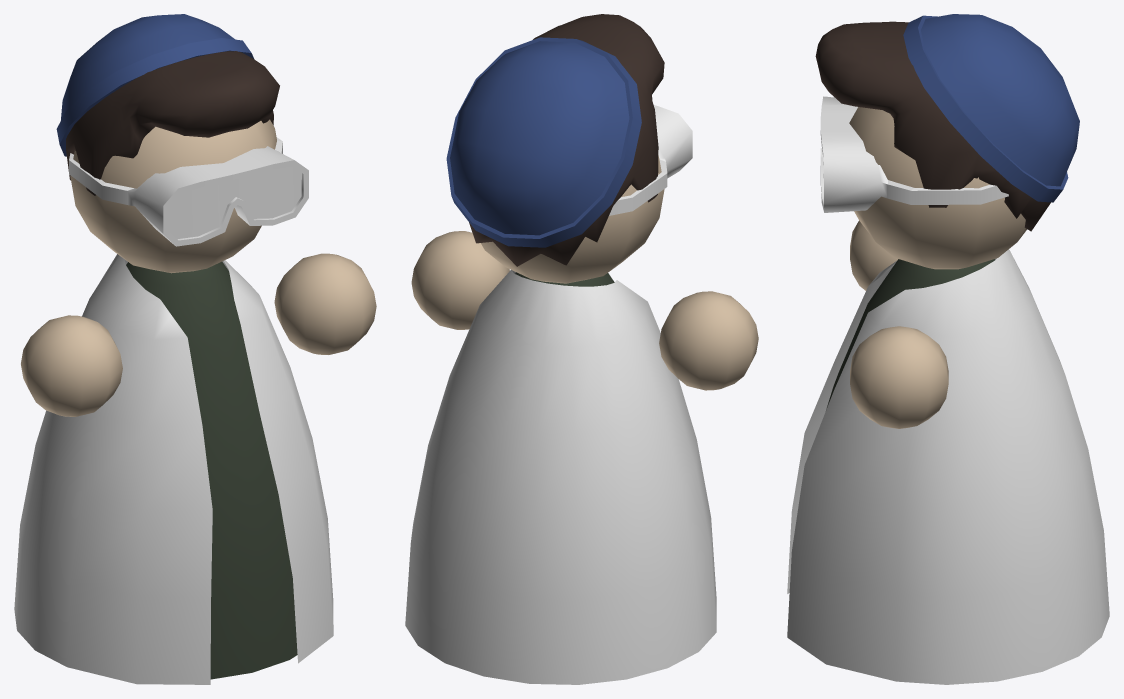
Rendered from char_01_labcoat_goggles_bag_off.fbx.
The picture shows the model from 3 angles, left to right: view 1: azimuth 30°, elevation 25°; view 2: azimuth 150°, elevation 25°; view 3: azimuth 270°, elevation 25°; orthographic projection. The views are drawn at different scales.
Parts seen in each view (by area): view 1: lab_coat_00, Body, Hair_00, Goggles, Head, Hat_00, R_hand_00, L_hand_00; view 2: lab_coat_00, Hat_00, Hair_00, R_hand_00, L_hand_00, Head, Goggles; view 3: lab_coat_00, Hat_00, Hair_00, Head, L_hand_00, Goggles, Body, R_hand_00.
Boxes of the visible parts, <box> form: lab_coat_00: <box>14,254,333,684</box>; Body: <box>126,261,297,679</box>; Hair_00: <box>66,51,279,195</box>; Goggles: <box>69,137,308,246</box>; Head: <box>70,119,276,273</box>; Hat_00: <box>56,14,254,156</box>; R_hand_00: <box>21,315,122,416</box>; L_hand_00: <box>274,253,376,354</box>; lab_coat_00: <box>405,270,716,684</box>; Hat_00: <box>446,37,641,247</box>; Hair_00: <box>469,14,664,266</box>; R_hand_00: <box>659,291,758,390</box>; L_hand_00: <box>411,231,509,329</box>; Head: <box>481,155,664,283</box>; Goggles: <box>609,105,692,215</box>; lab_coat_00: <box>787,249,1109,684</box>; Hat_00: <box>903,14,1079,202</box>; Hair_00: <box>815,21,1050,231</box>; Head: <box>849,107,1027,269</box>; L_hand_00: <box>850,326,948,428</box>; Goggles: <box>820,96,1008,212</box>; Body: <box>826,259,994,409</box>; R_hand_00: <box>850,220,898,290</box>.
Bounding box in the file's own units: 98.71 × 162 × 79.82.
